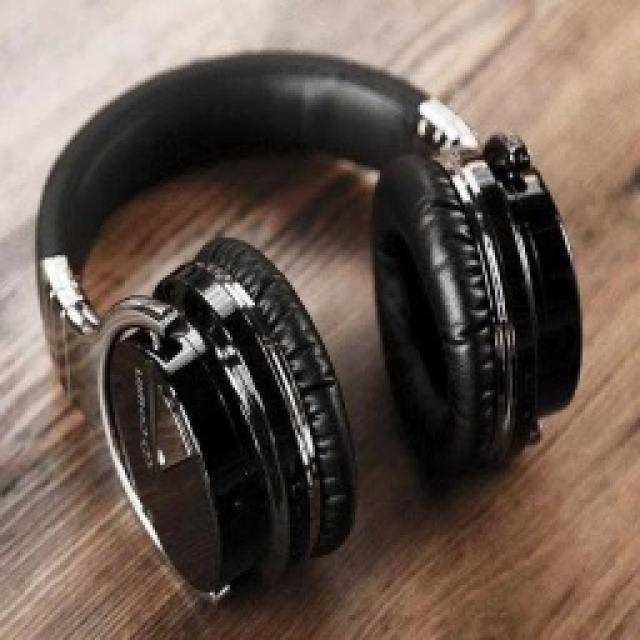headphones: (33, 45, 585, 603)
